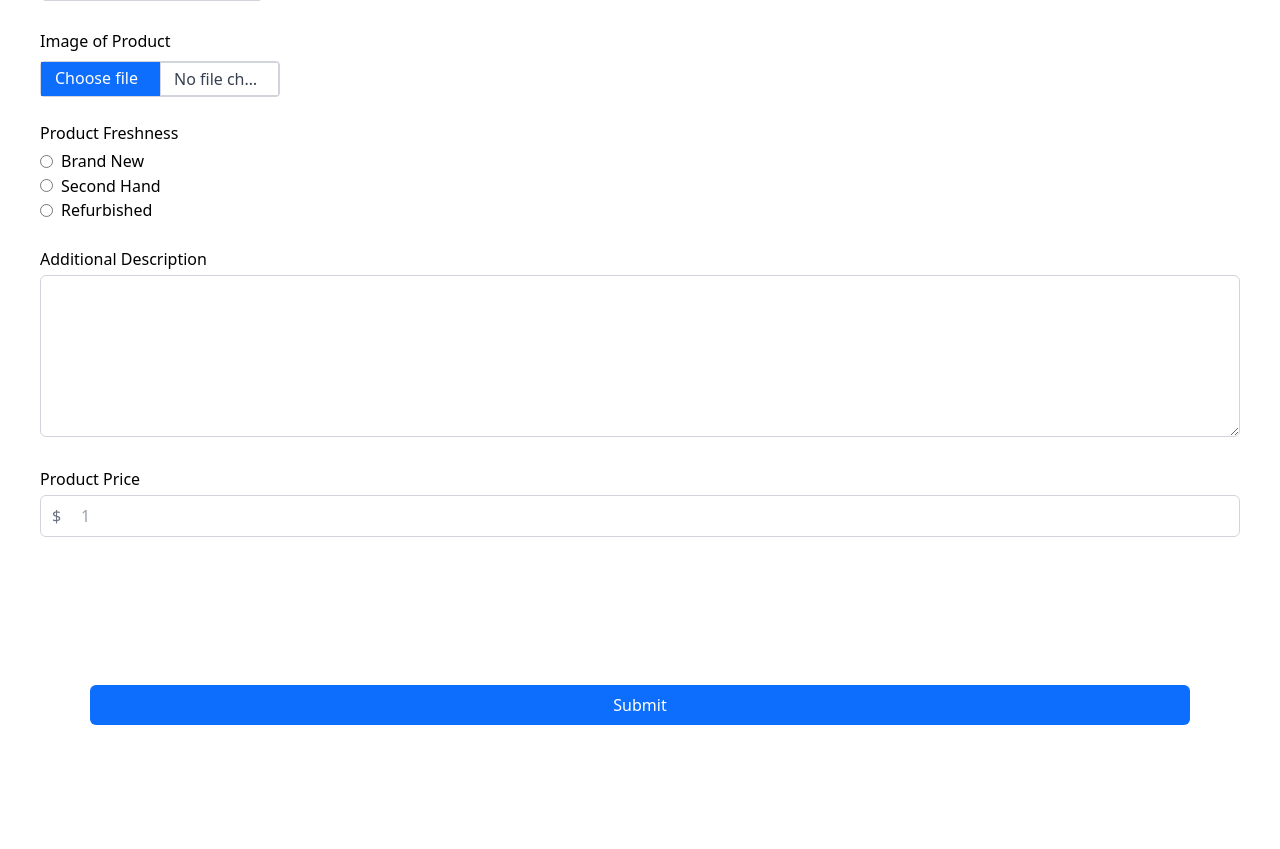
Test: ProductForm Component › Prioritas 2.3 (does not submit form with empty required fields)
(page scrolled)
What coordinates should you click on to do the following:
click the button "Submit"
I would click on:
 (640, 704)
Its box is [90,684,1190,724].
(page scrolled)
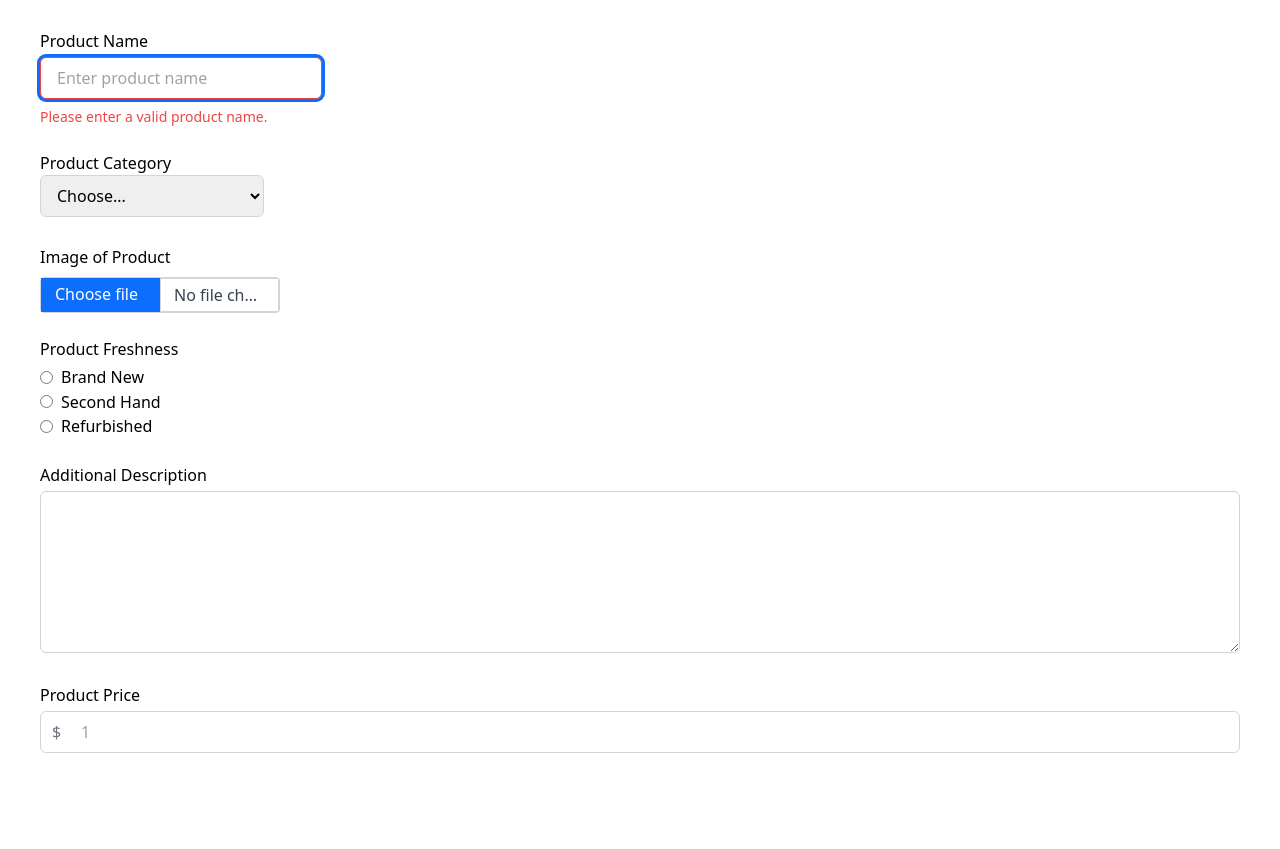
Check: the text "Please enter a valid product name." is shown, box [40,107,267,126]
